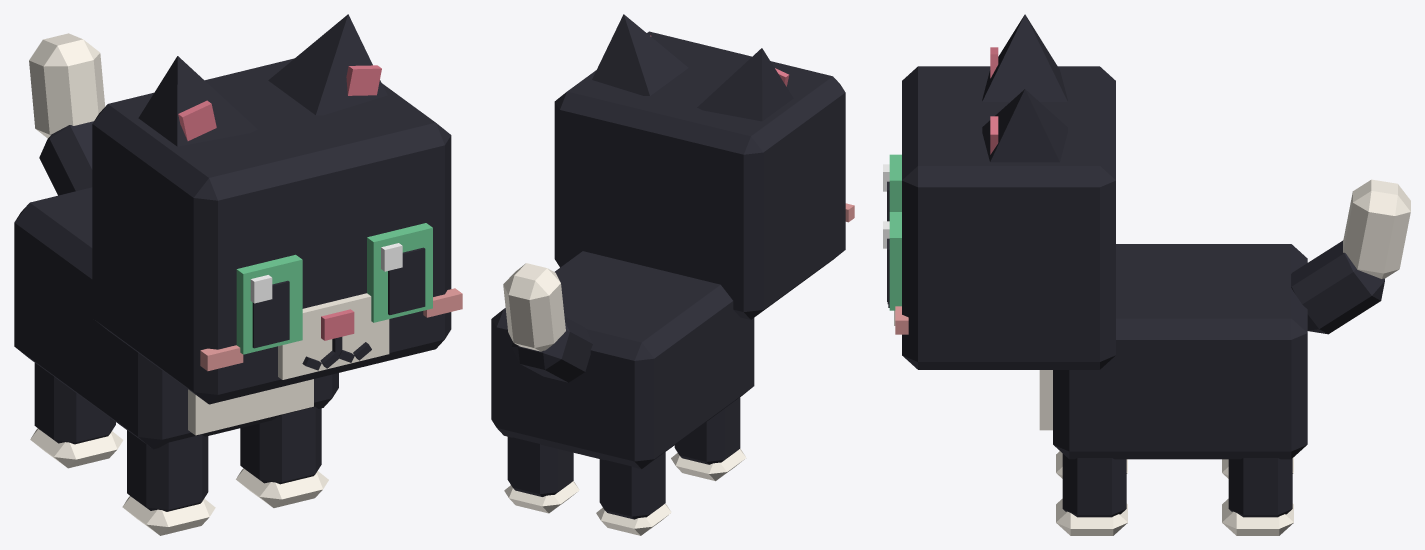
File: CatCafe_Cat_Tuxedo.glb
The picture shows the model from 3 angles, left to right: view 1: azimuth 30°, elevation 25°; view 2: azimuth 150°, elevation 25°; view 3: azimuth 270°, elevation 25°; orthographic projection. The views are drawn at different scales.
Visible parts, largest first — view 1: CatCafe_Cat_Tuxedo_Head, CatCafe_Cat_Tuxedo_Body, CatCafe_Cat_Tuxedo_Tail, CatCafe_Cat_Tuxedo_LegF2, CatCafe_Cat_Tuxedo_LegF1, CatCafe_Cat_Tuxedo_EarL, CatCafe_Cat_Tuxedo_Eye2, CatCafe_Cat_Tuxedo_LegB2, CatCafe_Cat_Tuxedo_Eye1, CatCafe_Cat_Tuxedo_EarR; view 2: CatCafe_Cat_Tuxedo_Head, CatCafe_Cat_Tuxedo_Body, CatCafe_Cat_Tuxedo_Tail, CatCafe_Cat_Tuxedo_LegB2, CatCafe_Cat_Tuxedo_EarL, CatCafe_Cat_Tuxedo_LegB1, CatCafe_Cat_Tuxedo_EarR, CatCafe_Cat_Tuxedo_LegF2; view 3: CatCafe_Cat_Tuxedo_Head, CatCafe_Cat_Tuxedo_Body, CatCafe_Cat_Tuxedo_Tail, CatCafe_Cat_Tuxedo_LegF1, CatCafe_Cat_Tuxedo_LegB1, CatCafe_Cat_Tuxedo_EarL, CatCafe_Cat_Tuxedo_EarR, CatCafe_Cat_Tuxedo_Eye1, CatCafe_Cat_Tuxedo_Eye2.
Part boxes in pixels (box(x1,y1,x2,y2)): CatCafe_Cat_Tuxedo_Head: box(92, 58, 462, 404); CatCafe_Cat_Tuxedo_Body: box(14, 187, 338, 449); CatCafe_Cat_Tuxedo_Tail: box(29, 33, 105, 195); CatCafe_Cat_Tuxedo_LegF2: box(122, 430, 215, 535); CatCafe_Cat_Tuxedo_LegF1: box(236, 406, 328, 507); CatCafe_Cat_Tuxedo_EarL: box(268, 14, 387, 115); CatCafe_Cat_Tuxedo_Eye2: box(236, 254, 302, 354); CatCafe_Cat_Tuxedo_LegB2: box(30, 362, 123, 468); CatCafe_Cat_Tuxedo_Eye1: box(367, 223, 432, 322); CatCafe_Cat_Tuxedo_EarR: box(138, 56, 257, 146); CatCafe_Cat_Tuxedo_Head: box(554, 31, 854, 319); CatCafe_Cat_Tuxedo_Body: box(491, 251, 754, 469); CatCafe_Cat_Tuxedo_Tail: box(503, 263, 592, 382); CatCafe_Cat_Tuxedo_LegB2: box(596, 452, 671, 535); CatCafe_Cat_Tuxedo_EarL: box(592, 14, 688, 95); CatCafe_Cat_Tuxedo_LegB1: box(504, 437, 579, 513); CatCafe_Cat_Tuxedo_EarR: box(697, 48, 793, 121); CatCafe_Cat_Tuxedo_LegF2: box(671, 397, 746, 481); CatCafe_Cat_Tuxedo_Head: box(887, 66, 1115, 369); CatCafe_Cat_Tuxedo_Body: box(1039, 244, 1307, 459); CatCafe_Cat_Tuxedo_Tail: box(1291, 179, 1410, 334); CatCafe_Cat_Tuxedo_LegF1: box(1056, 454, 1127, 535); CatCafe_Cat_Tuxedo_LegB1: box(1222, 458, 1293, 535); CatCafe_Cat_Tuxedo_EarL: box(982, 89, 1067, 162); CatCafe_Cat_Tuxedo_EarR: box(982, 14, 1067, 101); CatCafe_Cat_Tuxedo_Eye1: box(883, 212, 901, 310); CatCafe_Cat_Tuxedo_Eye2: box(883, 154, 901, 221).
Size of the model in its own units: 1 by 1.86 by 1.97.
1 material, 1 textured.
